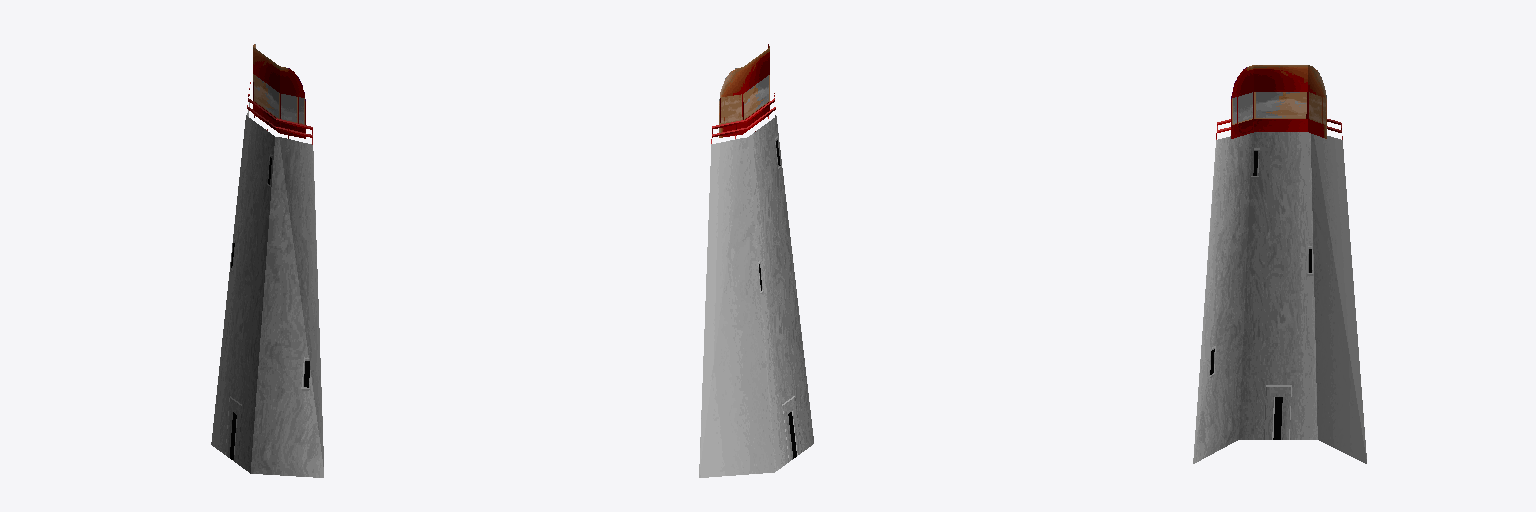
3 renders of one model, left to right at view 1: azimuth 30°, elevation 25°; view 2: azimuth 150°, elevation 25°; view 3: azimuth 270°, elevation 25°, orthographic.
Size of the model in its own units: 94 by 682 by 275.
Materials: 1 (1 with a texture image).